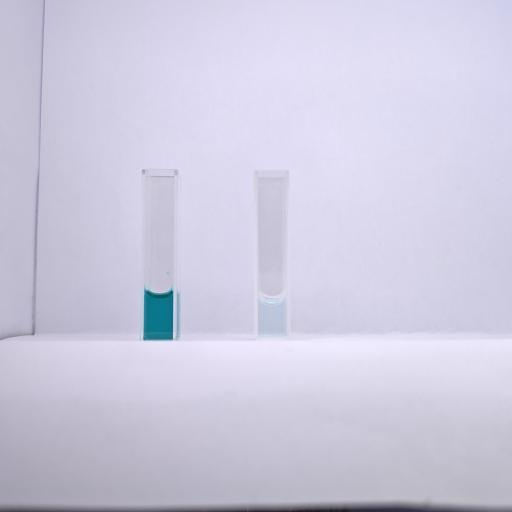cuvette: (140, 166, 180, 344), (252, 168, 292, 342)
liquid: (144, 292, 174, 340), (257, 295, 287, 338)
